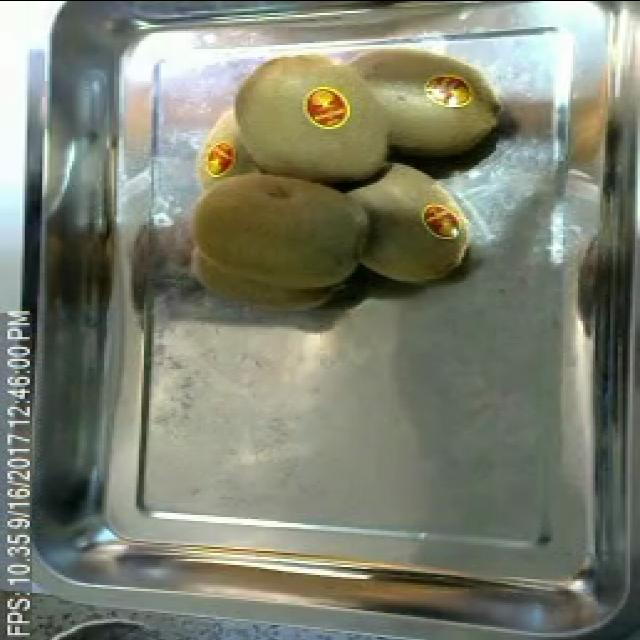Fruit: (176, 154, 382, 336), (342, 156, 482, 294), (298, 76, 358, 136)
